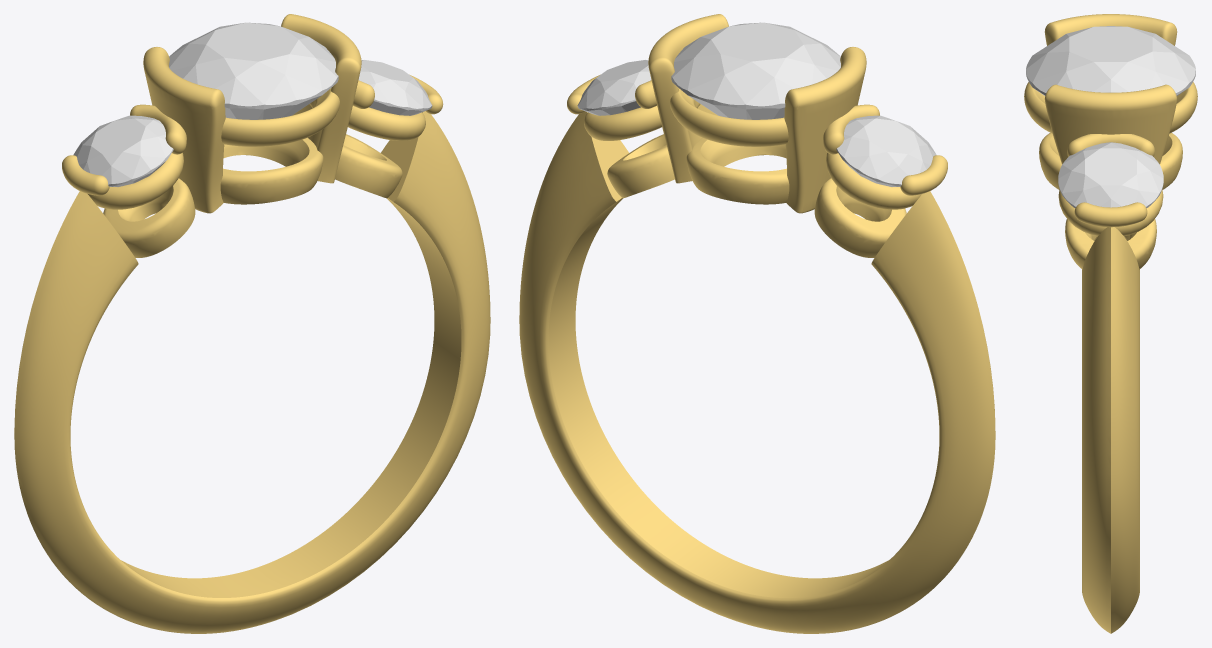
Rendered from diamond-round-yellowgold-halfmoonbezel-knifeedge-2stone.glb.
The picture shows the model from 3 angles, left to right: view 1: azimuth 30°, elevation 25°; view 2: azimuth 150°, elevation 25°; view 3: azimuth 270°, elevation 25°; orthographic projection. The views are drawn at different scales.
Visible parts, largest first — view 1: metal, stone, side, side.001; view 2: metal, stone, side, side.001; view 3: metal, stone, side.001.
Part boxes in pixels (x1,y1,x2,y2): metal: [14, 14, 490, 633]; stone: [169, 22, 338, 119]; side: [73, 115, 173, 187]; side.001: [358, 60, 432, 115]; metal: [519, 14, 995, 633]; stone: [671, 22, 840, 119]; side: [836, 115, 936, 186]; side.001: [577, 60, 651, 115]; metal: [1024, 14, 1197, 633]; stone: [1026, 26, 1195, 95]; side.001: [1058, 142, 1163, 208].
Bounding box in the file's own units: 20.1 × 23.61 × 6.58.
